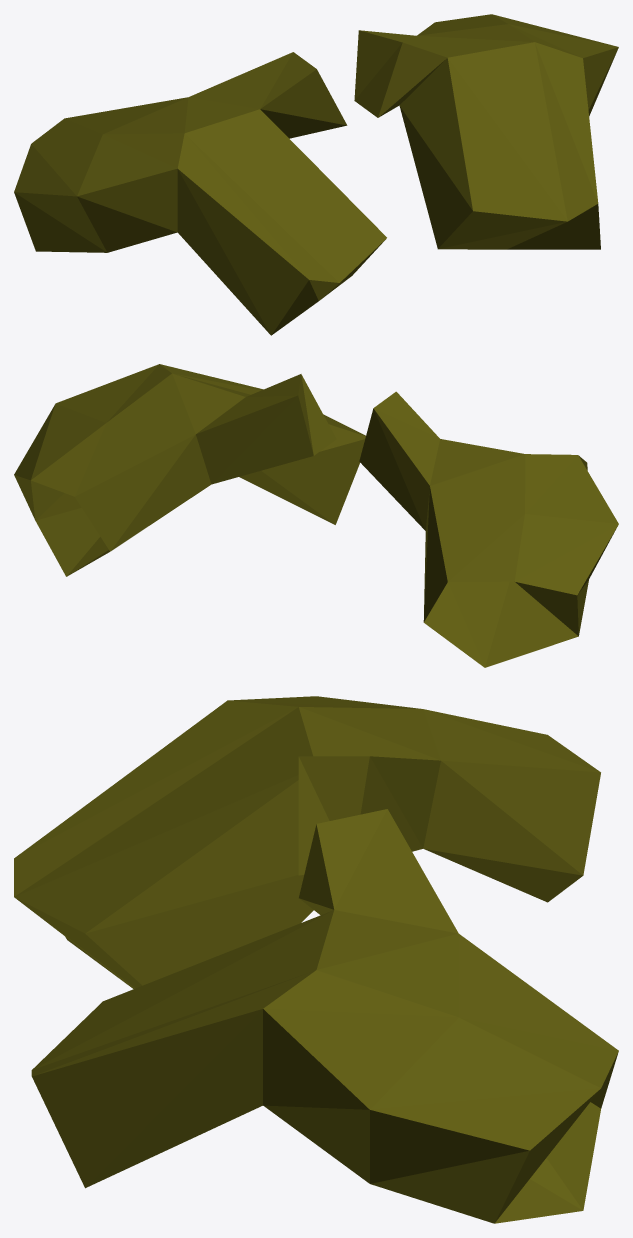
Rendered from inv_steel_gauntlets.obj.
3 renders of one model, top to bottom at view 1: azimuth 30°, elevation 25°; view 2: azimuth 150°, elevation 25°; view 3: azimuth 270°, elevation 25°, orthographic. The views are drawn at different scales.
Bounding box in the file's own units: 0.4375 × 0.1328 × 0.2656.
